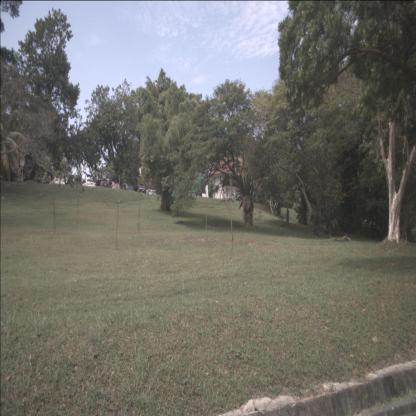vehicle-car: (64, 175, 82, 188), (32, 174, 50, 185), (49, 174, 65, 186), (94, 179, 109, 190), (80, 179, 96, 189), (106, 181, 121, 191), (143, 185, 156, 196), (119, 183, 134, 192), (134, 184, 146, 195)
